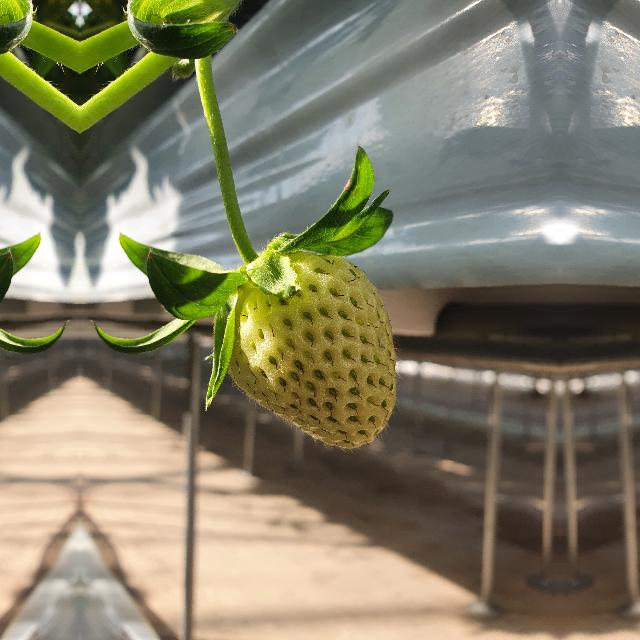Health_25: (228, 250, 396, 448)
